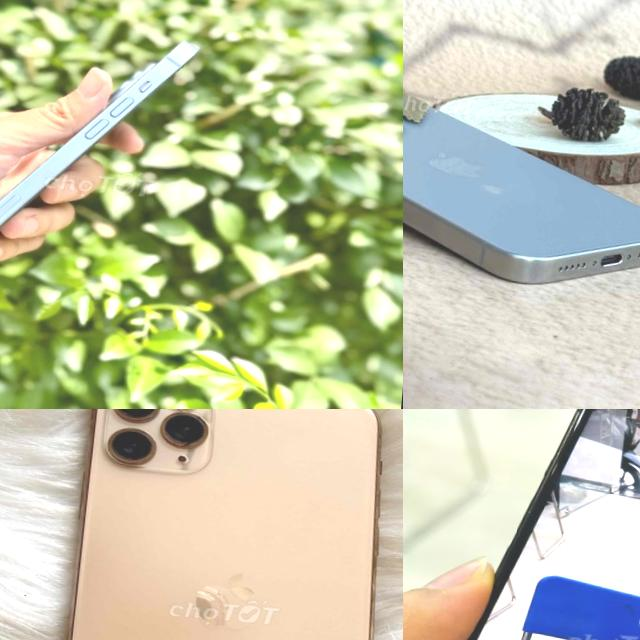gen_11: (38, 409, 403, 640)
gen_14: (0, 23, 208, 304)
gen_15: (403, 65, 640, 318), (403, 409, 640, 640)
